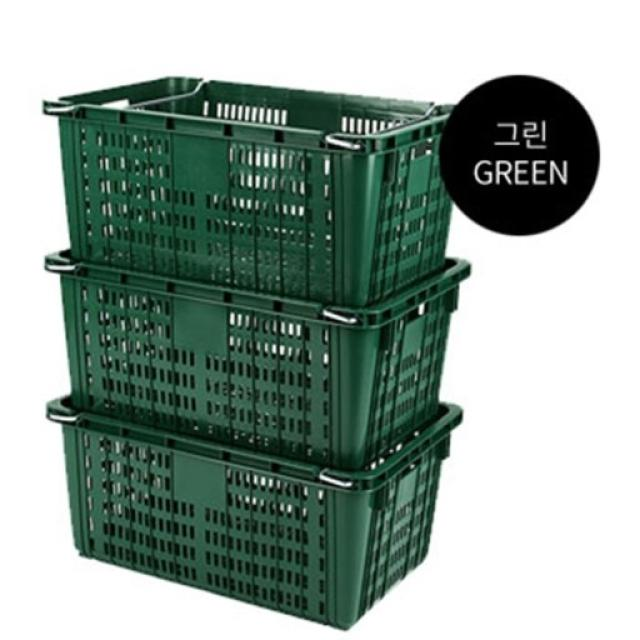basket: (25, 61, 463, 317), (44, 398, 463, 632), (41, 251, 472, 473)
